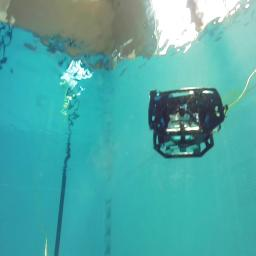Side: (147, 89, 226, 162)
